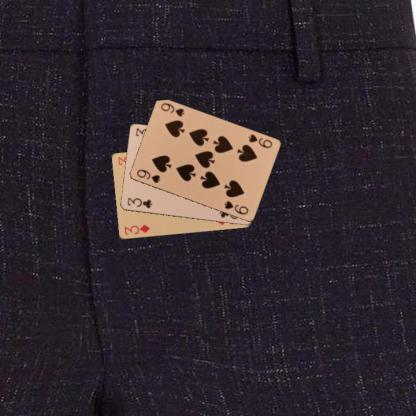3c: (125, 195, 153, 210)
3d: (121, 222, 151, 236)
9s: (246, 132, 273, 150), (134, 167, 161, 184)
